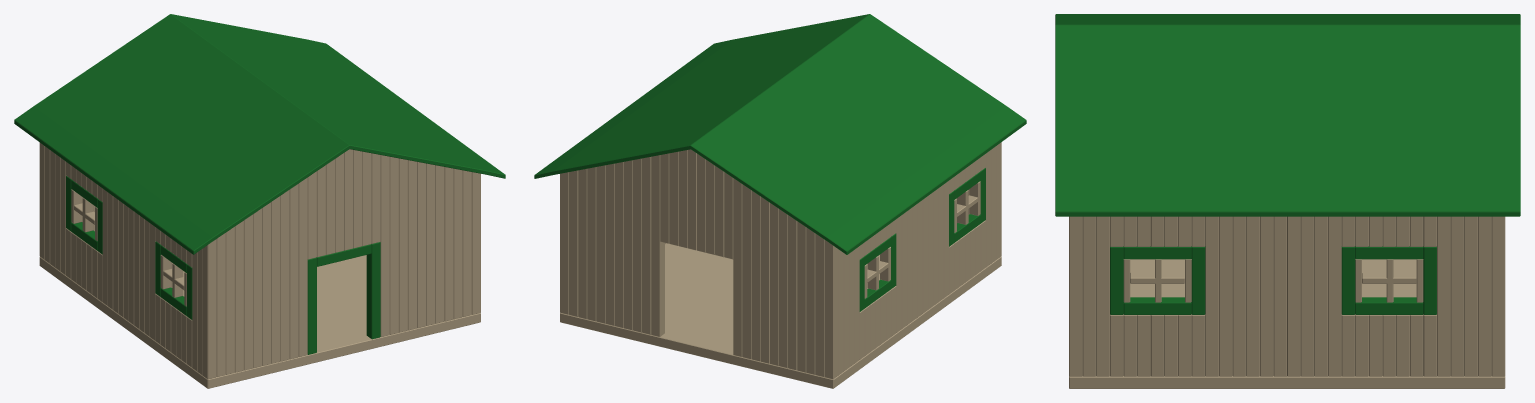
Rendered from House_01.fbx.
3 renders of one model, left to right at view 1: azimuth 30°, elevation 25°; view 2: azimuth 150°, elevation 25°; view 3: azimuth 270°, elevation 25°, orthographic. The views are drawn at different scales.
Parts seen in each view (by area): view 1: House_01; view 2: House_01; view 3: House_01.
Boxes of the visible parts, x1,y1,x2,y2 form: House_01: [14, 14, 505, 388]; House_01: [534, 14, 1026, 388]; House_01: [1055, 14, 1520, 388].
Bounding box in the file's own units: 686 × 450 × 682.
